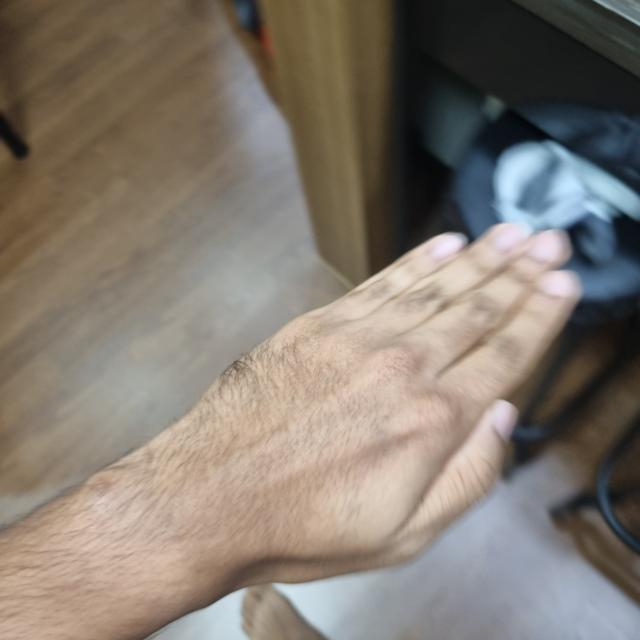Paper: (164, 226, 578, 571)
